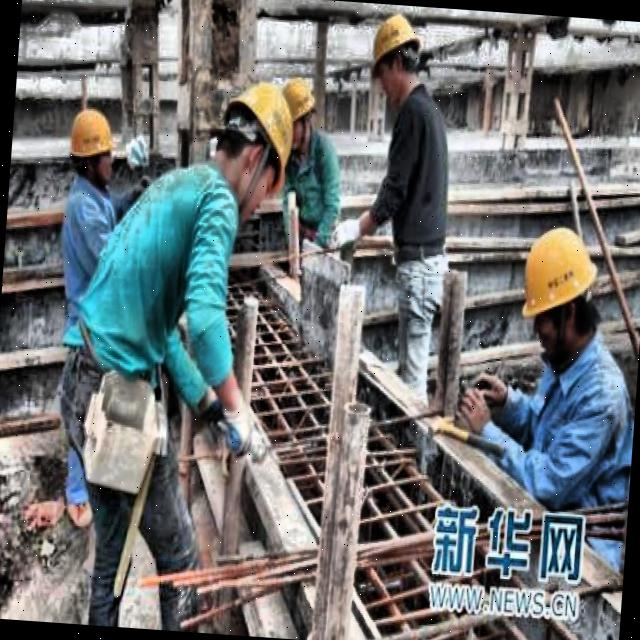helmet: (510, 214, 600, 367), (212, 73, 308, 208), (362, 5, 429, 110), (270, 66, 324, 162), (62, 101, 120, 187)
